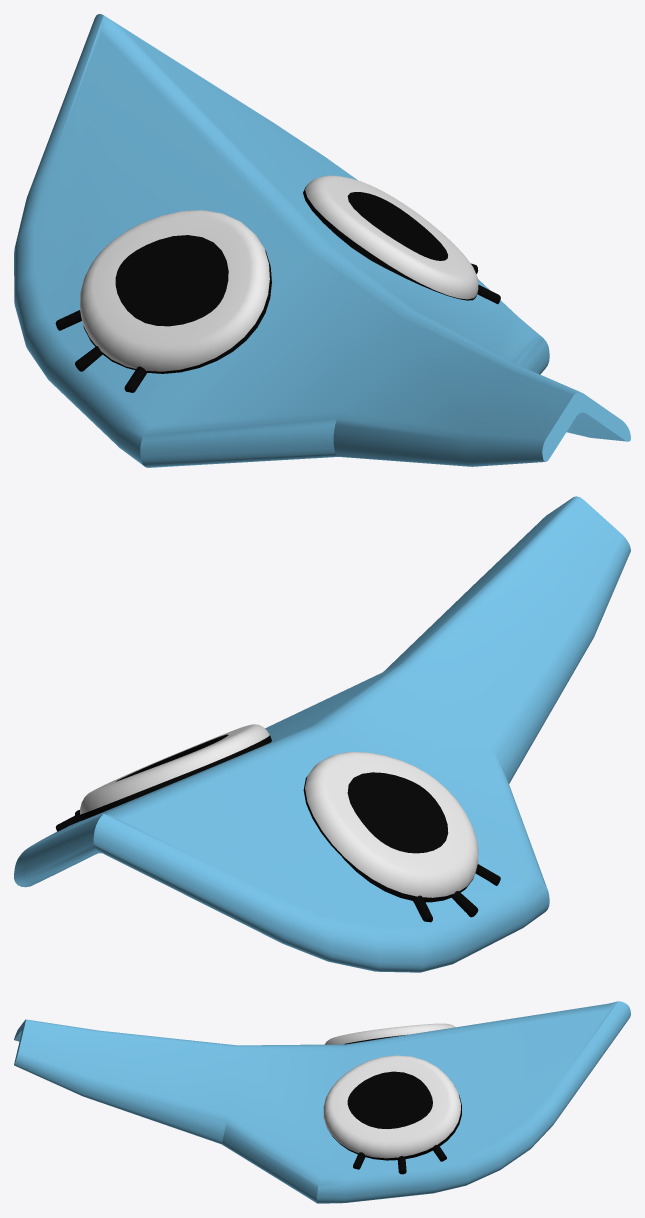
File: THead.fbx
3 views of the same model, one above another, from view 1: azimuth 30°, elevation 25°; view 2: azimuth 150°, elevation 25°; view 3: azimuth 270°, elevation 25° (orthographic). The views are drawn at different scales.
Visible parts, largest first — view 1: THead; view 2: THead; view 3: THead.
Part boxes in pixels (<box>): THead: <box>14,14,630,467</box>; THead: <box>14,496,630,972</box>; THead: <box>14,1001,630,1203</box>.
Size of the model in its own units: 163 by 87.39 by 341.
